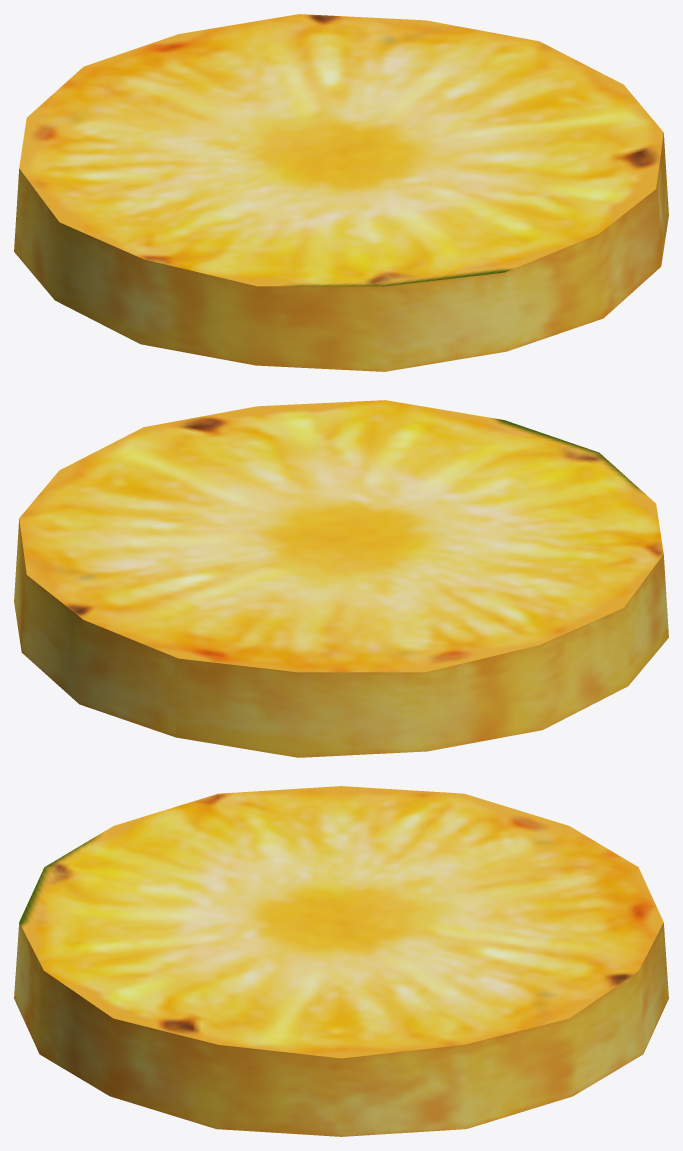
File: Pineapple_Slice.fbx
The picture shows the model from 3 angles, top to bottom: view 1: azimuth 30°, elevation 25°; view 2: azimuth 150°, elevation 25°; view 3: azimuth 270°, elevation 25°; orthographic projection.
Visible parts, largest first — view 1: Pineapple_Slice; view 2: Pineapple_Slice; view 3: Pineapple_Slice.
Part boxes in pixels (box(x1,y1,x2,y2)): Pineapple_Slice: box(14, 14, 668, 371); Pineapple_Slice: box(14, 400, 668, 757); Pineapple_Slice: box(14, 786, 668, 1136).
Bounding box in the file's own units: 42.71 × 5.92 × 42.71.
